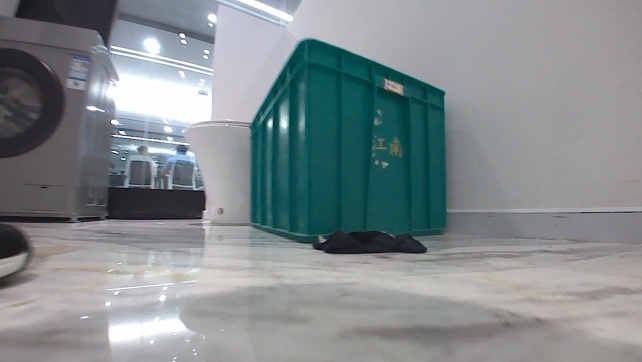socks: (312, 226, 430, 256)
toilet: (181, 116, 253, 226)
washing_machine: (0, 13, 124, 224)
